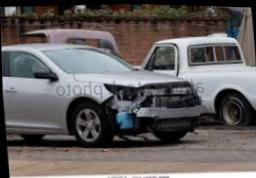Bumper: (105, 80, 202, 130)
Light: (102, 82, 136, 105)
